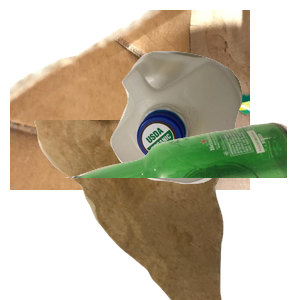cardboard: (10, 10, 250, 190)
glass: (60, 120, 300, 300)
plastic: (108, 49, 300, 226)
trash: (32, 120, 248, 300)
